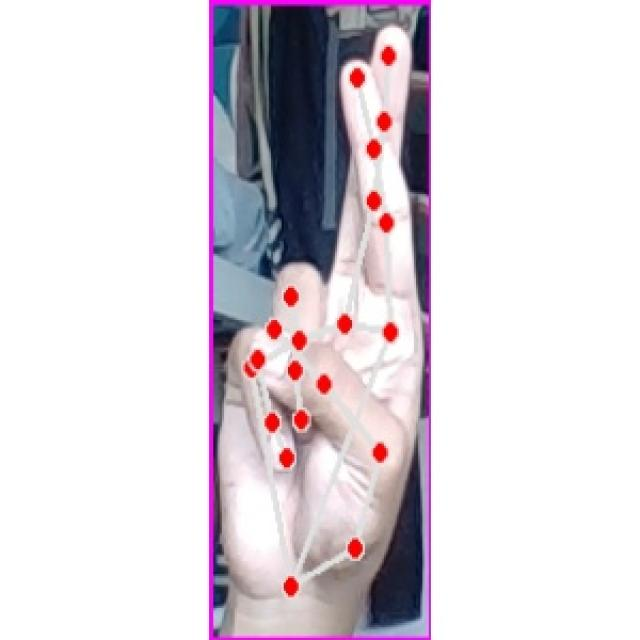R: (219, 16, 421, 618)
